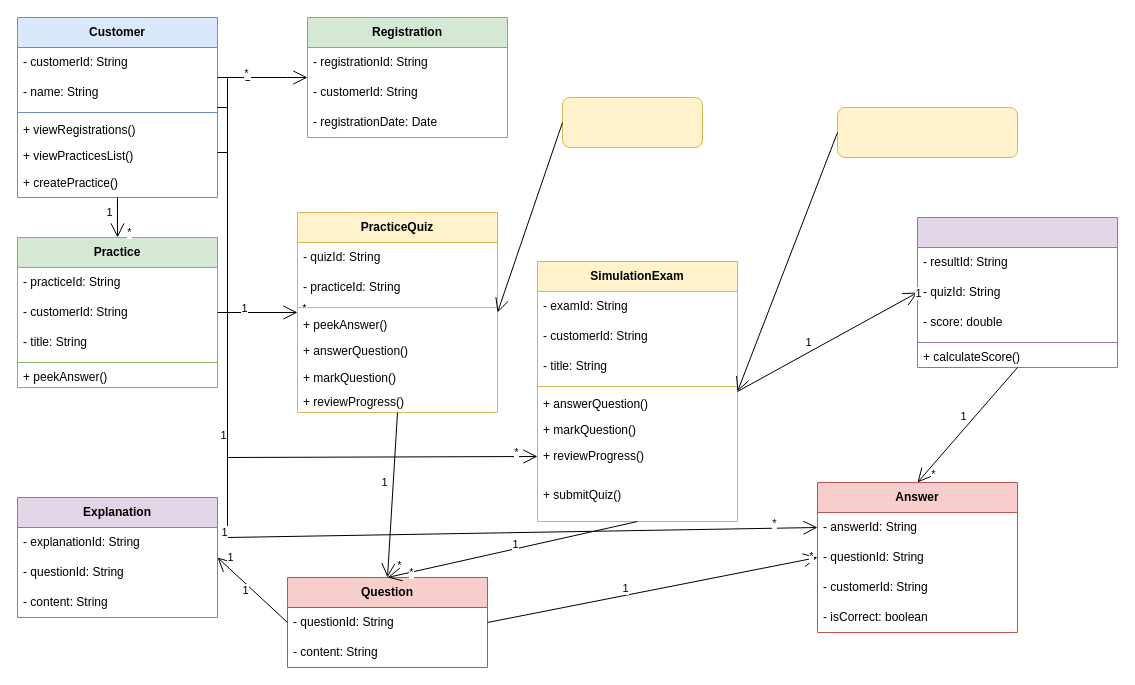
This 1135x685 diagram has some shape labels left out. The shapes that lost their labels are listed below. From the top down, each one's box as (x1, y1, x2, y2) in pixels, then its label:
(562, 96, 702, 148): Practice Only: - Peek Answer
(836, 106, 1018, 158): Extension Point: - Submit Quiz / Score Exam
(916, 216, 1118, 368): QuizResult
